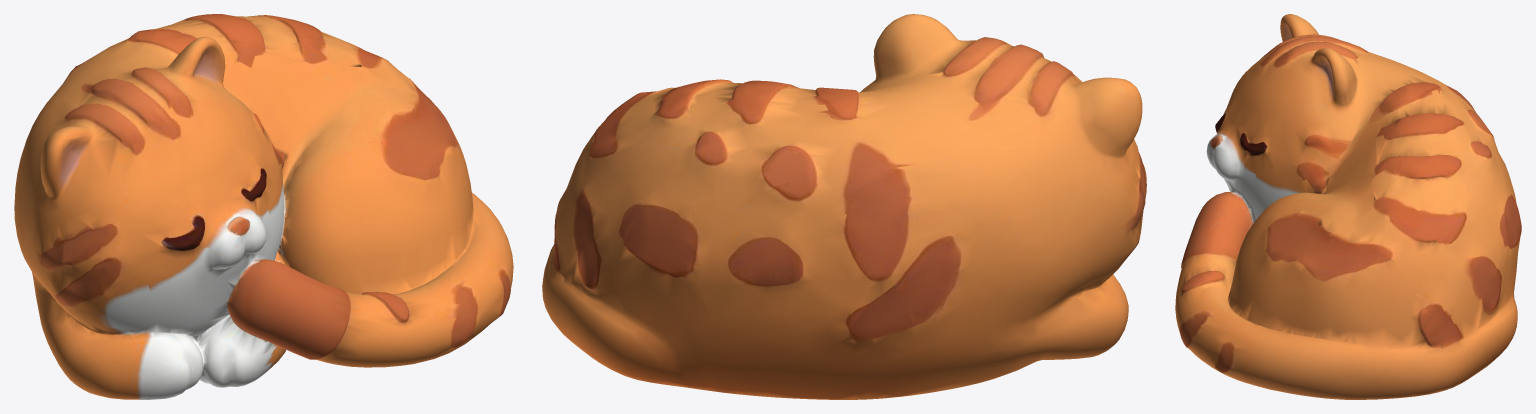
File: cat.glb
3 views of the same model, side by side, from view 1: azimuth 30°, elevation 25°; view 2: azimuth 150°, elevation 25°; view 3: azimuth 270°, elevation 25° (orthographic). The views are drawn at different scales.
Visible parts, largest first — view 1: cat; view 2: cat; view 3: cat.
Boxes of the visible parts, x1,y1,x2,y2 form: cat: (14,14,513,399); cat: (542,14,1146,399); cat: (1175,14,1521,399).
Size of the model in its own units: 0.475 by 0.2795 by 0.3688.
1 material, 1 textured.
